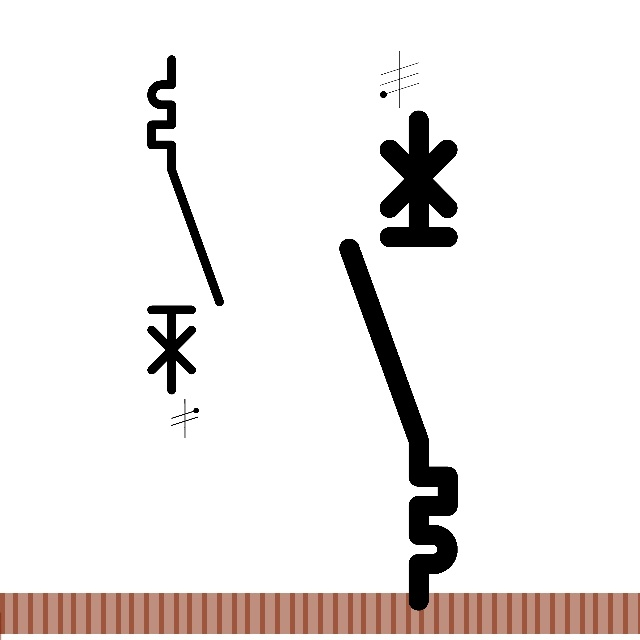interruptor_termomagnetico: (337, 108, 460, 613), (143, 51, 228, 398)
